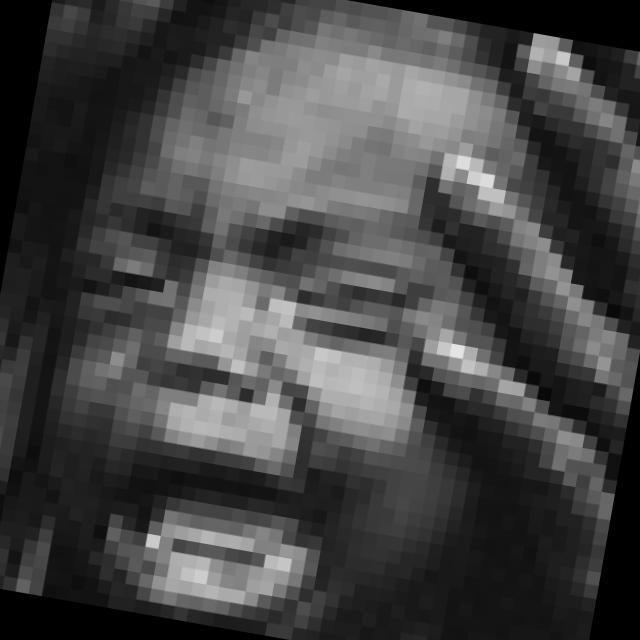sad: (14, 143, 441, 640)
